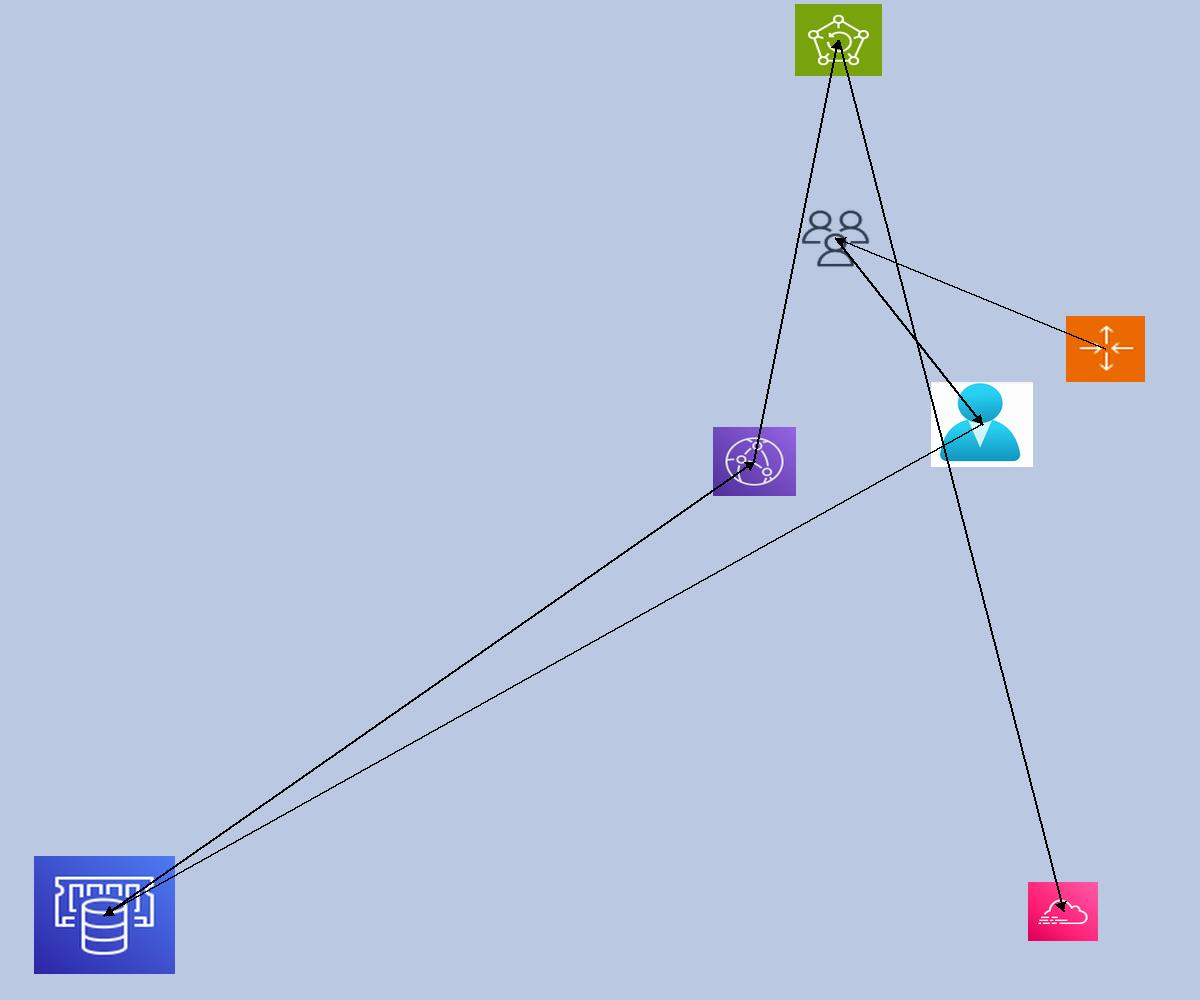AWS-Backup: (795, 4, 882, 76)
AWS-CloudFront: (713, 427, 796, 496)
AWS-CloudTrail: (1028, 882, 1098, 941)
AWS-ElastiCache: (34, 856, 175, 974)
AWS-Res_Users: (799, 208, 872, 269)
AWS-Scaling-group: (1066, 316, 1145, 382)
Azure_users: (931, 382, 1033, 467)
